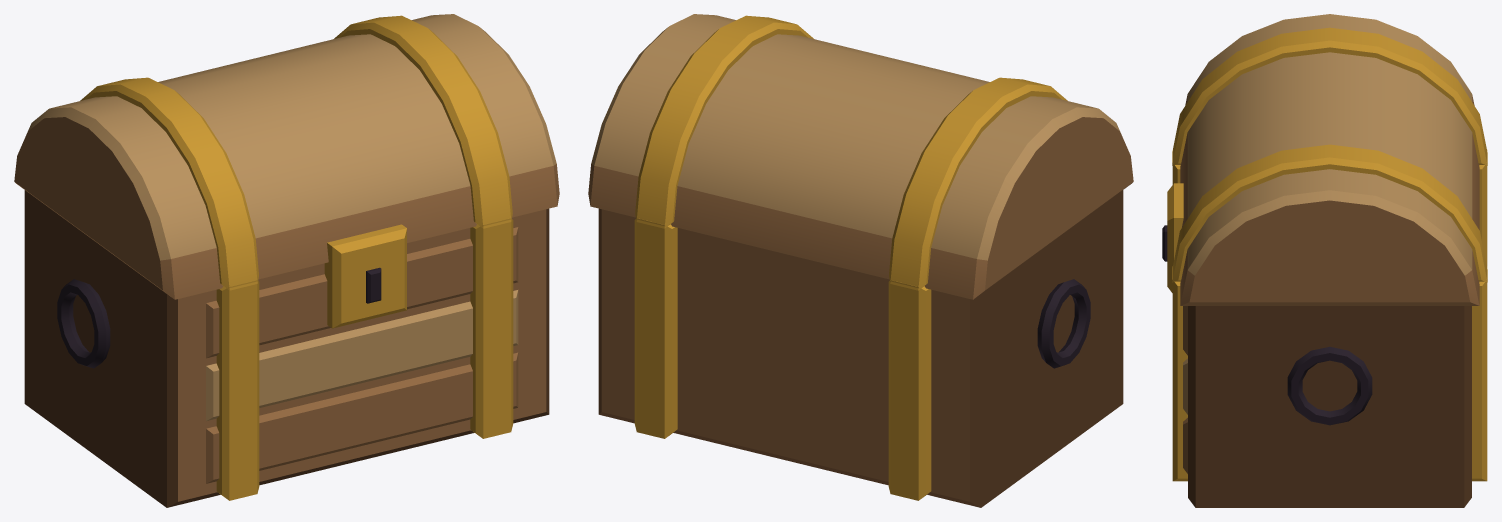
The model's file is Chest_09.glb.
3 renders of one model, left to right at view 1: azimuth 30°, elevation 25°; view 2: azimuth 150°, elevation 25°; view 3: azimuth 270°, elevation 25°, orthographic. The views are drawn at different scales.
Visible parts, largest first — view 1: Chest_09; view 2: Chest_09; view 3: Chest_09.
Boxes of the visible parts, left/top/right/bottom form: Chest_09: left=14, top=14, right=559, bottom=507; Chest_09: left=588, top=14, right=1133, bottom=507; Chest_09: left=1162, top=14, right=1487, bottom=507.
Bounding box in the file's own units: 3.57 × 2.83 × 2.54.
